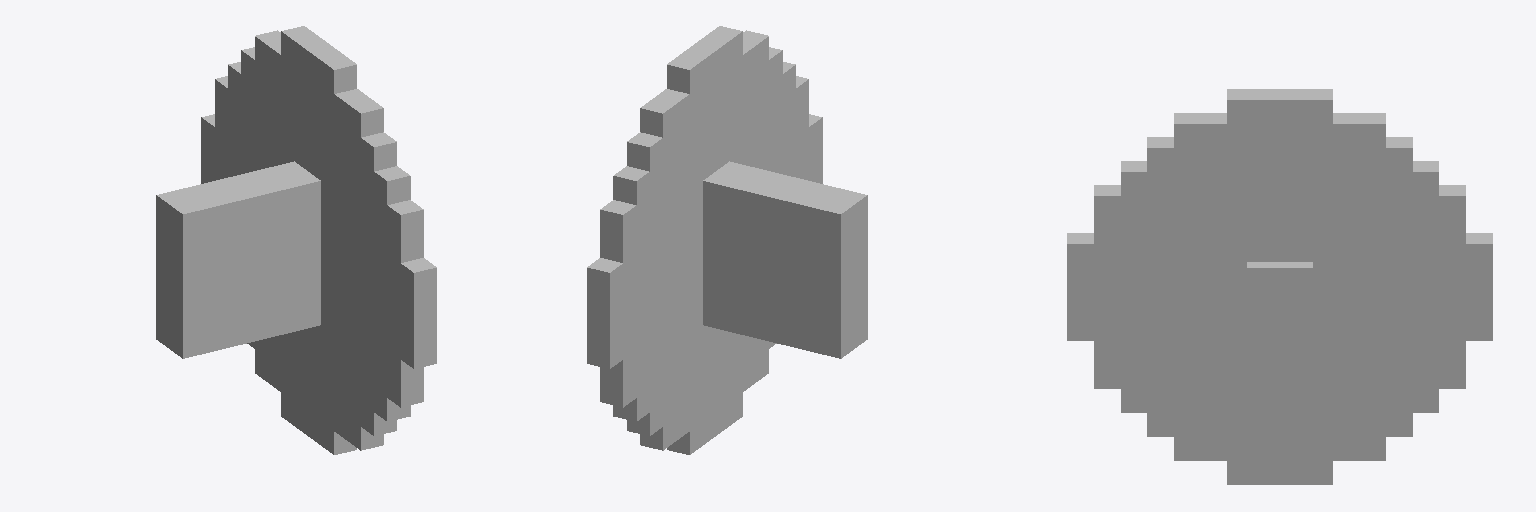
Rendered from small_shield.obj.
The picture shows the model from 3 angles: view 1: azimuth 30°, elevation 25°; view 2: azimuth 150°, elevation 25°; view 3: azimuth 270°, elevation 25°; orthographic projection.
Visible parts, largest first — view 1: handle, shieldsmall_0, shieldsmall_1, shieldsmall_7, shieldsmall_3, shieldsmall_2, shieldsmall_5, shieldsmall_9, shieldsmall_4, shieldsmall_6, shieldsmall_8, shieldsmall_10; view 2: handle, shieldsmall_0, shieldsmall_2, shieldsmall_8, shieldsmall_4, shieldsmall_1, shieldsmall_6, shieldsmall_10, shieldsmall_3, shieldsmall_5, shieldsmall_7, shieldsmall_9; view 3: shieldsmall_0, shieldsmall_1, shieldsmall_2, shieldsmall_3, shieldsmall_4, shieldsmall_5, shieldsmall_6, shieldsmall_7, shieldsmall_8, cube, shieldsmall_9, shieldsmall_10.
Part boxes in pixels (left/top/right/bottom): handle: left=156, top=161, right=320, bottom=358; shieldsmall_0: left=281, top=26, right=356, bottom=454; shieldsmall_1: left=334, top=89, right=383, bottom=450; shieldsmall_7: left=387, top=200, right=423, bottom=407; shieldsmall_3: left=361, top=132, right=396, bottom=435; shieldsmall_2: left=255, top=30, right=280, bottom=391; shieldsmall_5: left=374, top=166, right=410, bottom=421; shieldsmall_9: left=401, top=258, right=436, bottom=368; shieldsmall_4: left=241, top=47, right=254, bottom=348; shieldsmall_6: left=228, top=62, right=240, bottom=176; shieldsmall_8: left=215, top=76, right=227, bottom=180; shieldsmall_10: left=201, top=114, right=214, bottom=183; handle: left=703, top=161, right=867, bottom=358; shieldsmall_0: left=667, top=26, right=742, bottom=454; shieldsmall_2: left=640, top=89, right=689, bottom=450; shieldsmall_8: left=600, top=200, right=636, bottom=407; shieldsmall_4: left=627, top=132, right=662, bottom=435; shieldsmall_1: left=743, top=30, right=768, bottom=391; shieldsmall_6: left=613, top=166, right=649, bottom=421; shieldsmall_10: left=587, top=258, right=622, bottom=368; shieldsmall_3: left=769, top=47, right=782, bottom=348; shieldsmall_5: left=783, top=62, right=795, bottom=176; shieldsmall_7: left=796, top=76, right=808, bottom=180; shieldsmall_9: left=809, top=114, right=822, bottom=183; shieldsmall_0: left=1227, top=89, right=1332, bottom=484; shieldsmall_1: left=1174, top=113, right=1226, bottom=460; shieldsmall_2: left=1333, top=113, right=1385, bottom=460; shieldsmall_3: left=1147, top=137, right=1173, bottom=436; shieldsmall_4: left=1386, top=137, right=1412, bottom=436; shieldsmall_5: left=1121, top=161, right=1146, bottom=412; shieldsmall_6: left=1413, top=161, right=1438, bottom=412; shieldsmall_7: left=1094, top=185, right=1120, bottom=388; shieldsmall_8: left=1439, top=185, right=1465, bottom=388; cube: left=1247, top=262, right=1312, bottom=327; shieldsmall_9: left=1067, top=233, right=1093, bottom=340; shieldsmall_10: left=1466, top=233, right=1492, bottom=340.
Bounding box in the file's own units: 0.4688 × 1 × 1.